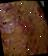plaque psoriasis: (0, 1, 22, 36), (16, 14, 38, 37), (36, 5, 44, 19), (3, 37, 12, 48), (42, 41, 48, 54)
